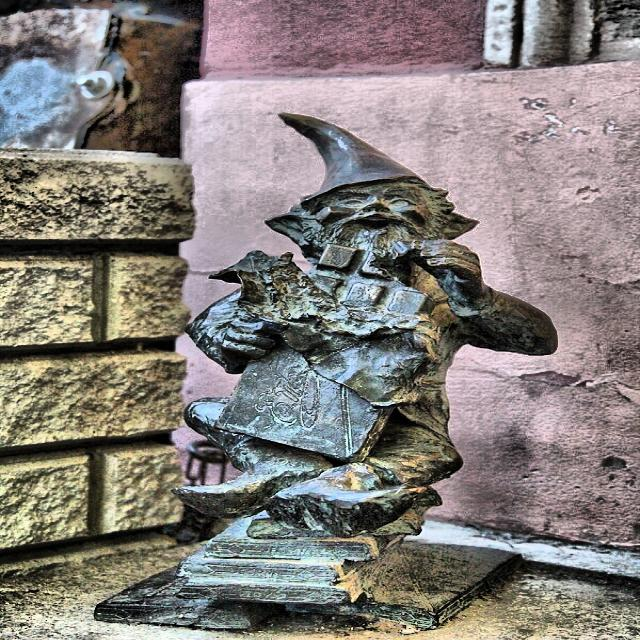Wedelek: (94, 114, 557, 629)
